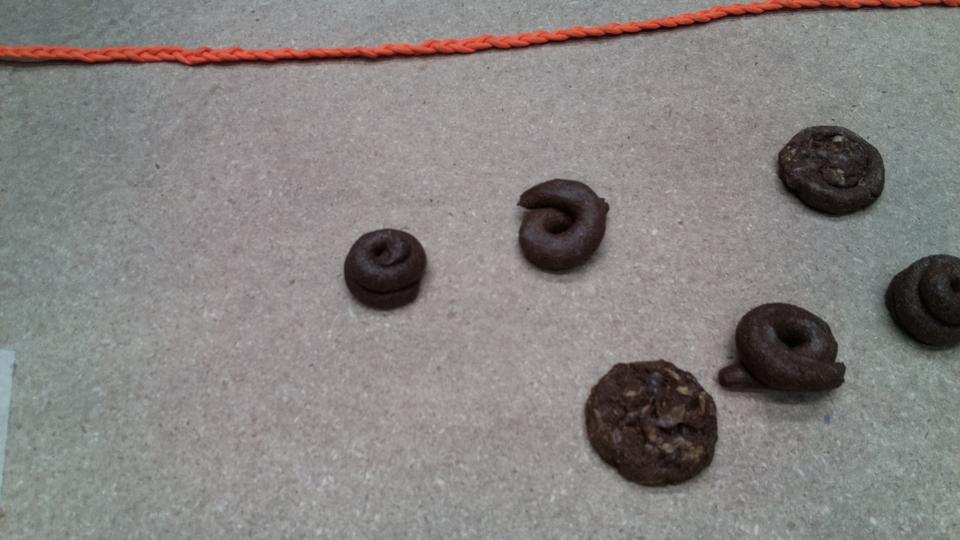poop: (578, 355, 726, 497), (721, 292, 853, 402), (774, 116, 894, 227), (509, 175, 621, 279), (877, 243, 960, 354), (335, 225, 438, 313)
rope: (1, 30, 506, 72), (618, 10, 802, 53), (485, 24, 664, 64), (699, 1, 862, 40)
